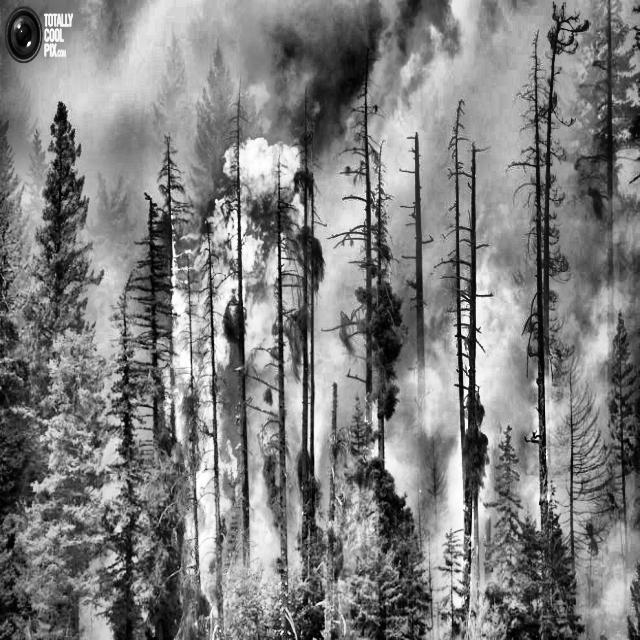fire: (178, 115, 334, 540)
